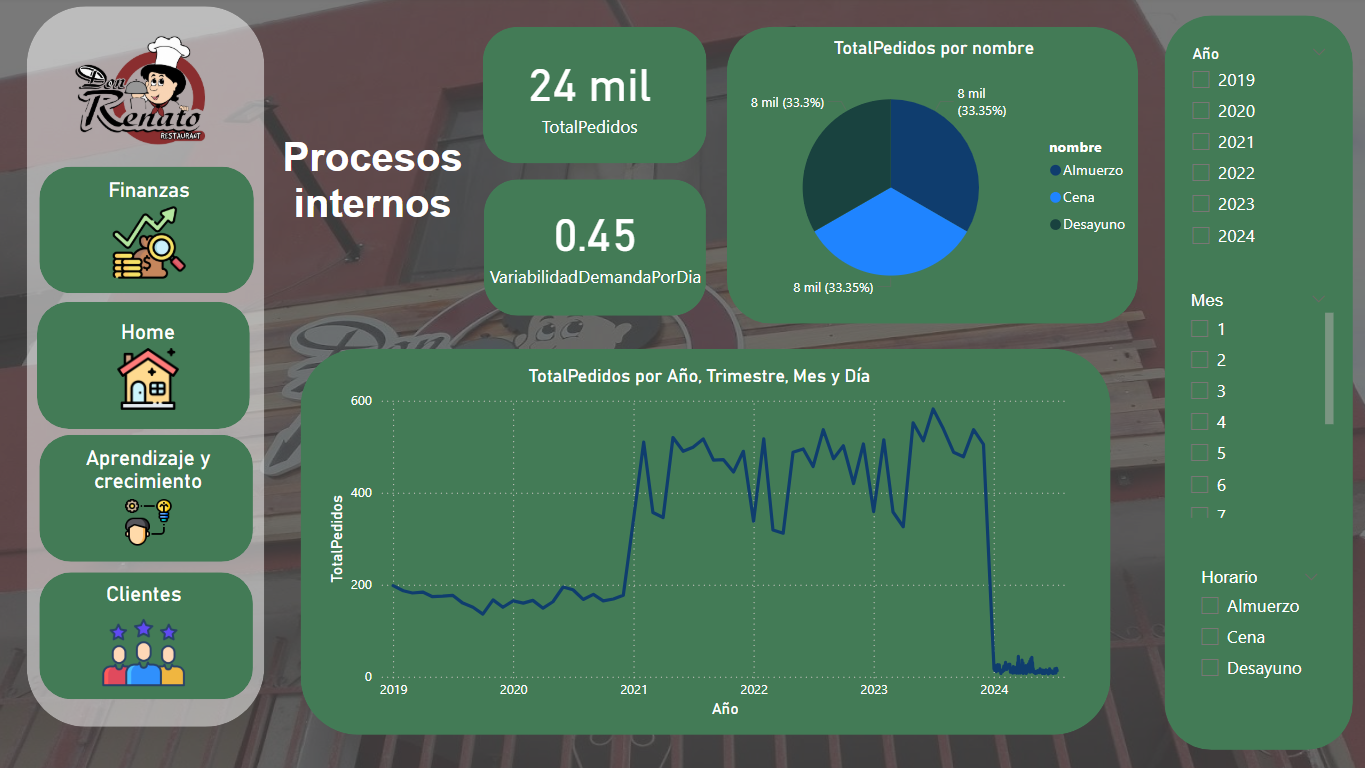

What the dashboard file says about the page in this screenshot:
{"tool":"powerbi","page":{"name":"Procesos Internos","canvas":[1280,720],"ordinal":2},"visuals":[{"type":"shape","box":[679.1,28.1,383.2,276.7],"z":0},{"type":"shape","box":[452.7,170.1,207.1,127.2],"z":1000},{"type":"shape","box":[27.1,8.6,221.4,671.4],"z":2000},{"type":"image","box":[42.9,8.6,185.7,151.4],"z":3000},{"type":"shape","box":[281.8,327.7,754.7,359.7],"z":4000},{"type":"shape","box":[451.2,28.1,208.6,127.2],"z":5000},{"type":"card","fields":{"Values":["Medidas.TotalPedidos"]},"box":[433.5,28.1,235.2,121.3],"z":6000},{"type":"shape","box":[37.9,158.3,200,118.2],"z":7000},{"type":"shape","box":[38.5,407.7,199.2,118.5],"z":8000},{"type":"image","title":"Finanzas","box":[92.9,167.1,95.7,100],"z":9000},{"type":"shape","box":[36.2,283.8,198.5,118.5],"z":10000},{"type":"image","title":"Aprendizaje y crecimiento","box":[66.9,416.9,145.4,100],"z":11000},{"type":"shape","box":[38.5,536.2,199.2,118.5],"z":12000},{"type":"image","title":"Clientes","box":[69.2,543.8,133.1,110.8],"z":13000},{"type":"image","title":"Home","box":[91.4,300,95.7,90],"z":14000},{"type":"lineChart","fields":{"Y":["Medidas.TotalPedidos"],"Category":["Calentadario.Date.Variación.Jerarquía de fechas.Año","Calentadario.Date.Variación.Jerarquía de fechas.Trimestre","Calentadario.Date.Variación.Jerarquía de fechas.Mes","Calentadario.Date.Variación.Jerarquía de fechas.Día"]},"box":[302.1,342.6,702.4,333],"z":15000},{"type":"shape","box":[1087,17.1,175.6,684.4],"z":16000},{"type":"slicer","fields":{"Values":["Calentadario.Año"]},"box":[1099.9,39.6,149.9,205.6],"z":17000},{"type":"slicer","fields":{"Values":["Calentadario.Mes"]},"box":[1098.4,267.9,150.5,222],"z":18000},{"type":"slicer","fields":{"Values":["Dim_horarioscomida.nombre"]},"box":[1107.6,526.6,134.2,121.5],"z":19000},{"type":"card","fields":{"Values":["Medidas.VariabilidadDemandaPorDia"]},"box":[429.1,179,254.5,97.6],"z":20000},{"type":"pieChart","fields":{"Y":["Medidas.TotalPedidos"],"Category":["Dim_horarioscomida.nombre"]},"box":[679.1,37,386.1,260.4],"z":21000},{"type":"textbox","box":[238.2,122.8,221.9,161.3],"z":22000}]}

Visuals, with their boxes in screenshot pixels (x1, y1, x2, y2), scaled from the page's 1280x720 canvas onto the 1365x768 screenshot:
shape: pyautogui.locateOnScreen(724, 30, 1133, 325)
shape: pyautogui.locateOnScreen(483, 181, 704, 317)
shape: pyautogui.locateOnScreen(29, 9, 265, 725)
image: pyautogui.locateOnScreen(46, 9, 244, 171)
shape: pyautogui.locateOnScreen(301, 350, 1105, 733)
shape: pyautogui.locateOnScreen(481, 30, 704, 166)
card - Medidas.TotalPedidos: pyautogui.locateOnScreen(462, 30, 713, 159)
shape: pyautogui.locateOnScreen(40, 169, 254, 295)
shape: pyautogui.locateOnScreen(41, 435, 253, 561)
"Finanzas" image: pyautogui.locateOnScreen(99, 178, 201, 285)
shape: pyautogui.locateOnScreen(39, 303, 250, 429)
"Aprendizaje y crecimiento" image: pyautogui.locateOnScreen(71, 445, 226, 551)
shape: pyautogui.locateOnScreen(41, 572, 253, 698)
"Clientes" image: pyautogui.locateOnScreen(74, 580, 216, 698)
"Home" image: pyautogui.locateOnScreen(97, 320, 200, 416)
lineChart - Medidas.TotalPedidos x Calentadario.Date.Variación.Jerarquía de fechas.Año: pyautogui.locateOnScreen(322, 365, 1071, 721)
shape: pyautogui.locateOnScreen(1159, 18, 1346, 748)
slicer - Calentadario.Año: pyautogui.locateOnScreen(1173, 42, 1333, 262)
slicer - Calentadario.Mes: pyautogui.locateOnScreen(1171, 286, 1332, 523)
slicer - Dim_horarioscomida.nombre: pyautogui.locateOnScreen(1181, 562, 1324, 691)
card - Medidas.VariabilidadDemandaPorDia: pyautogui.locateOnScreen(458, 191, 729, 295)
pieChart - Medidas.TotalPedidos x Dim_horarioscomida.nombre: pyautogui.locateOnScreen(724, 39, 1136, 317)
textbox: pyautogui.locateOnScreen(254, 131, 491, 303)
